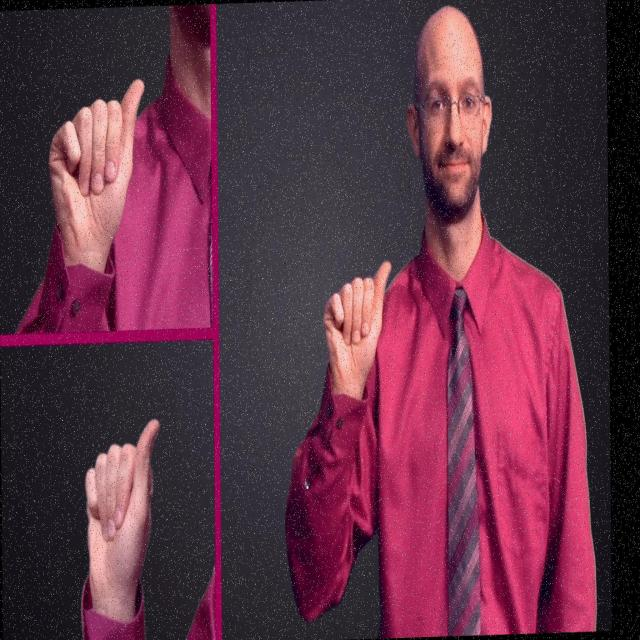A: (46, 71, 148, 260), (82, 415, 163, 600), (320, 252, 394, 391)
